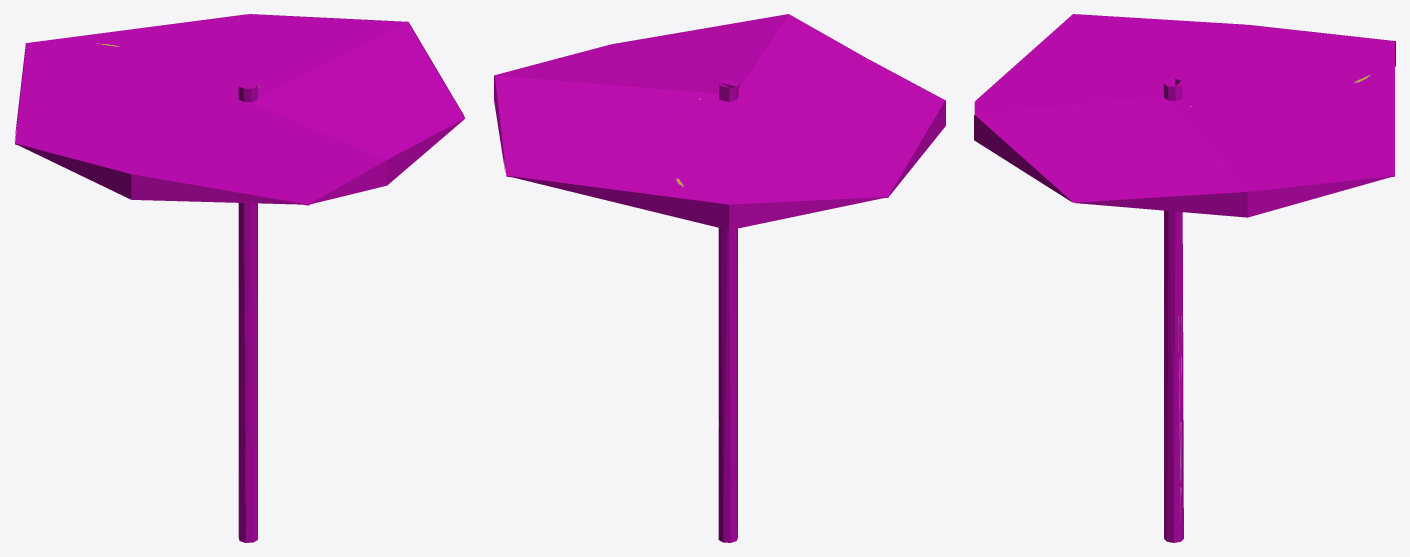
Rendered from Umbrella.fbx.
3 views of the same model, side by side, from view 1: azimuth 30°, elevation 25°; view 2: azimuth 150°, elevation 25°; view 3: azimuth 270°, elevation 25° (orthographic).
Visible parts, largest first — view 1: Umbrella; view 2: Umbrella; view 3: Umbrella.
Boxes of the visible parts, x1=… form: Umbrella: x1=14, y1=14, x2=464, y2=542; Umbrella: x1=494, y1=14, x2=945, y2=542; Umbrella: x1=974, y1=14, x2=1395, y2=542.
Size of the model in its own units: 641 by 706 by 592.
1 material, 1 textured.
